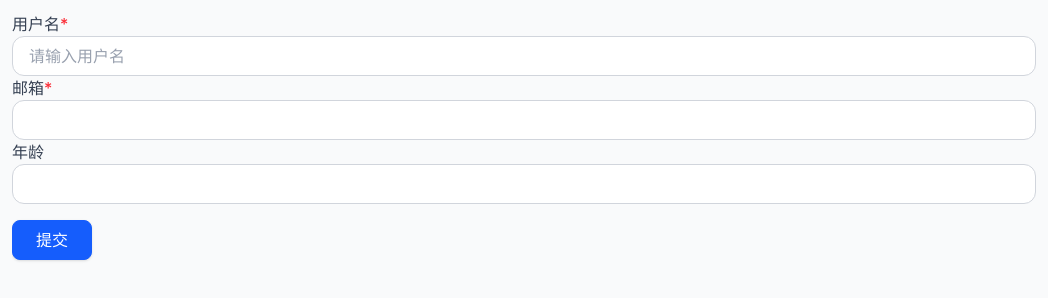
Test: Form Component › 表单验证测试 › 应该显示最小长度错误
The image size is (1048, 298).
Type "ab" into the field labelled "用户名*" at (524, 56), box [12, 36, 1036, 76]
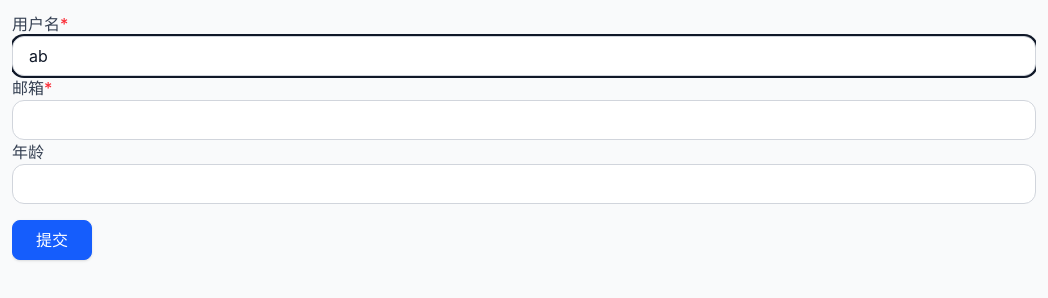
Press Tab
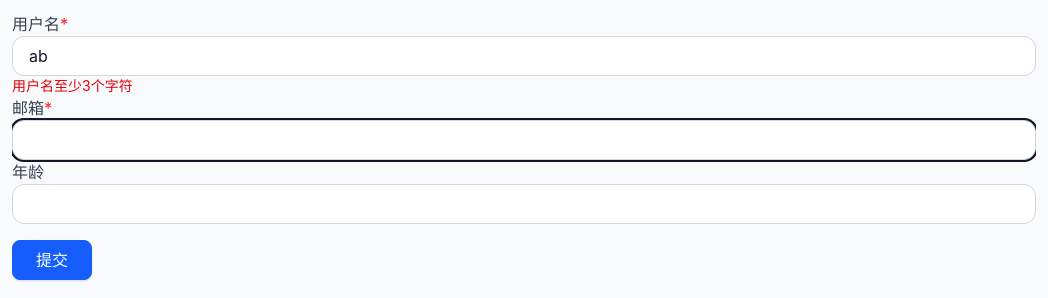
Now the text "用户名至少3个字符" is shown, box [12, 77, 133, 94]
